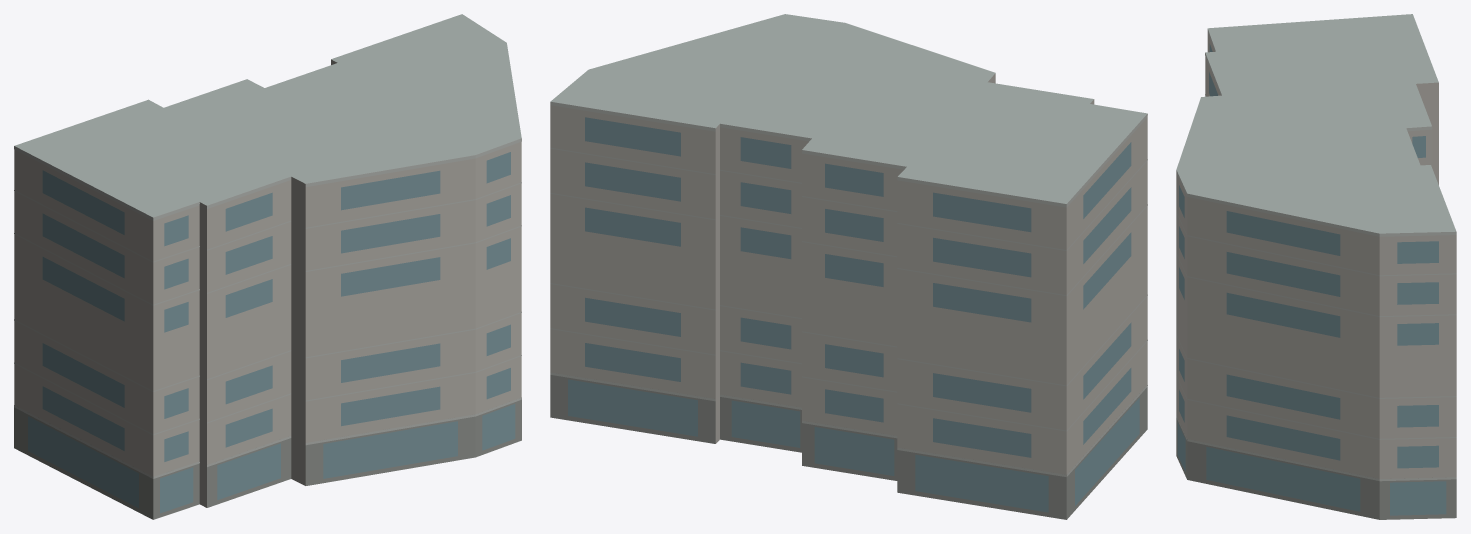
File: survey-upis-32702251.glb
The picture shows the model from 3 angles, left to right: view 1: azimuth 30°, elevation 25°; view 2: azimuth 150°, elevation 25°; view 3: azimuth 270°, elevation 25°; orthographic projection. The views are drawn at different scales.
Parts seen in each view (by area): view 1: survey-upis-32702251.tmp; view 2: survey-upis-32702251.tmp; view 3: survey-upis-32702251.tmp.
Boxes of the visible parts, x1,y1,x2,y2 form: survey-upis-32702251.tmp: (14, 14, 521, 519); survey-upis-32702251.tmp: (550, 14, 1147, 519); survey-upis-32702251.tmp: (1176, 14, 1456, 519).
Bounding box in the file's own units: 35.72 × 21.7 × 19.28.
